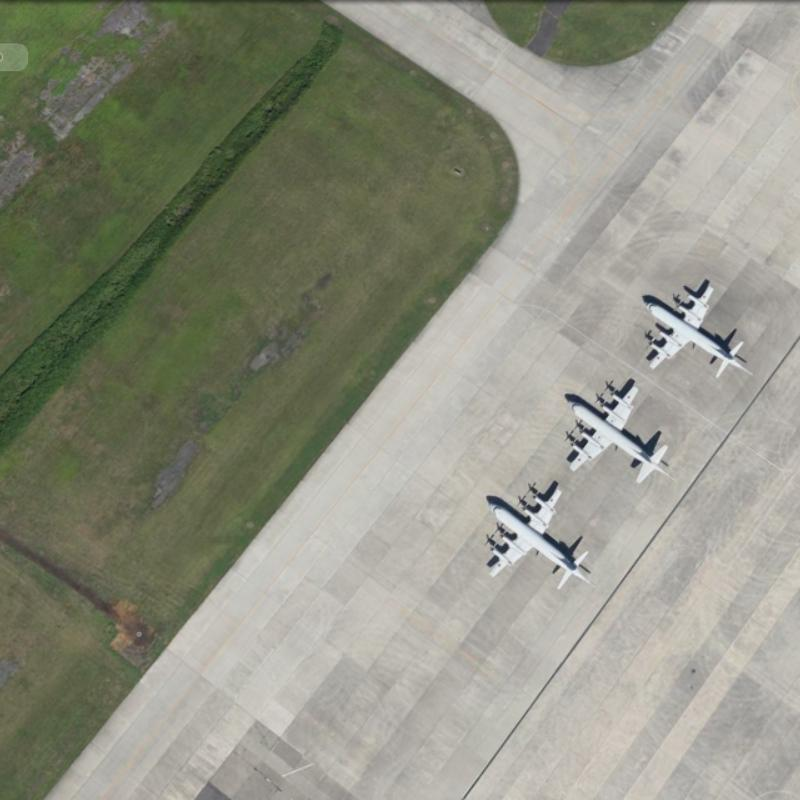A9: (474, 477, 593, 589), (560, 378, 675, 487), (632, 278, 749, 382)
